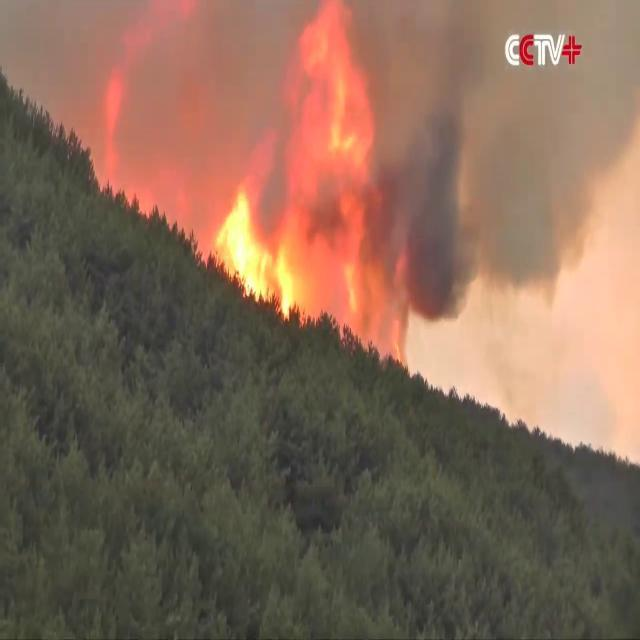Fire: (206, 2, 408, 367)
Smoke: (350, 1, 640, 326), (0, 2, 314, 255)
